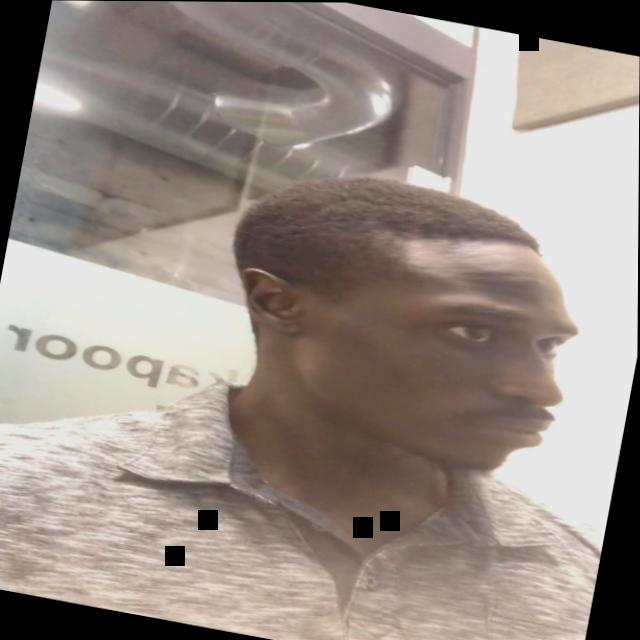NO-Mask: (256, 202, 589, 488)
